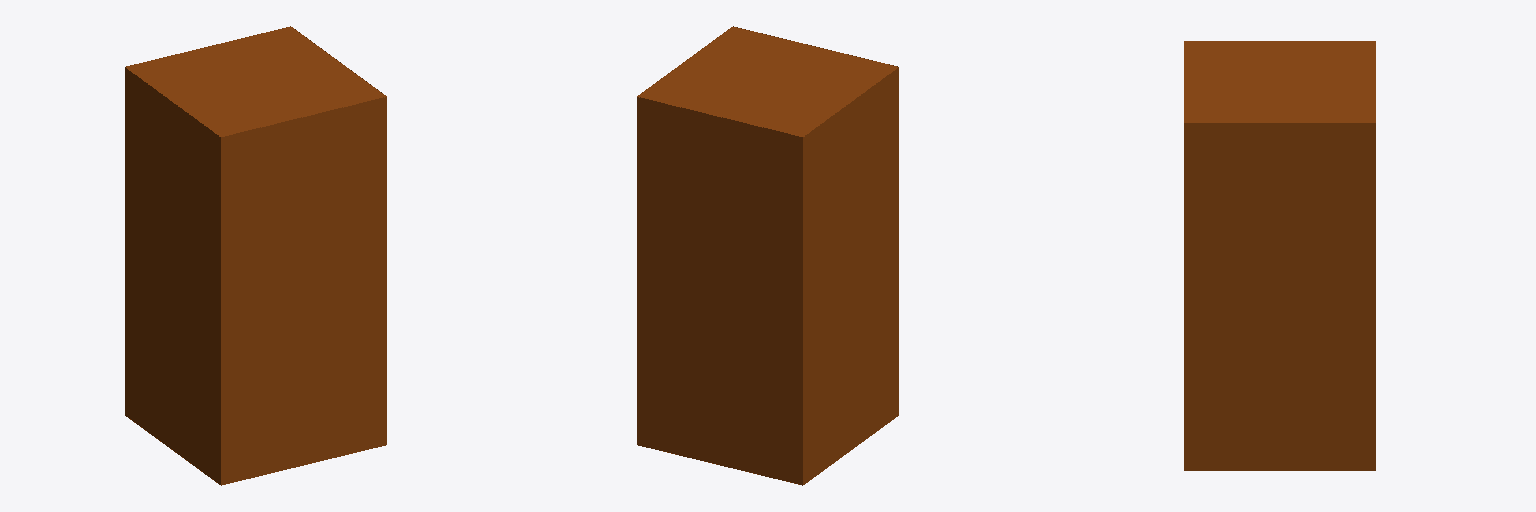
The picture shows the model from 3 angles: view 1: azimuth 30°, elevation 25°; view 2: azimuth 150°, elevation 25°; view 3: azimuth 270°, elevation 25°; orthographic projection.
Parts seen in each view (by area): view 1: FaeLeg; view 2: FaeLeg; view 3: FaeLeg.
Part boxes in pixels (x1,y1,x2,y2): FaeLeg: (125,26,386,485); FaeLeg: (637,26,898,485); FaeLeg: (1184,41,1375,470).
Bounding box in the file's own units: 1 × 2 × 1.
1 materials, 1 textured.